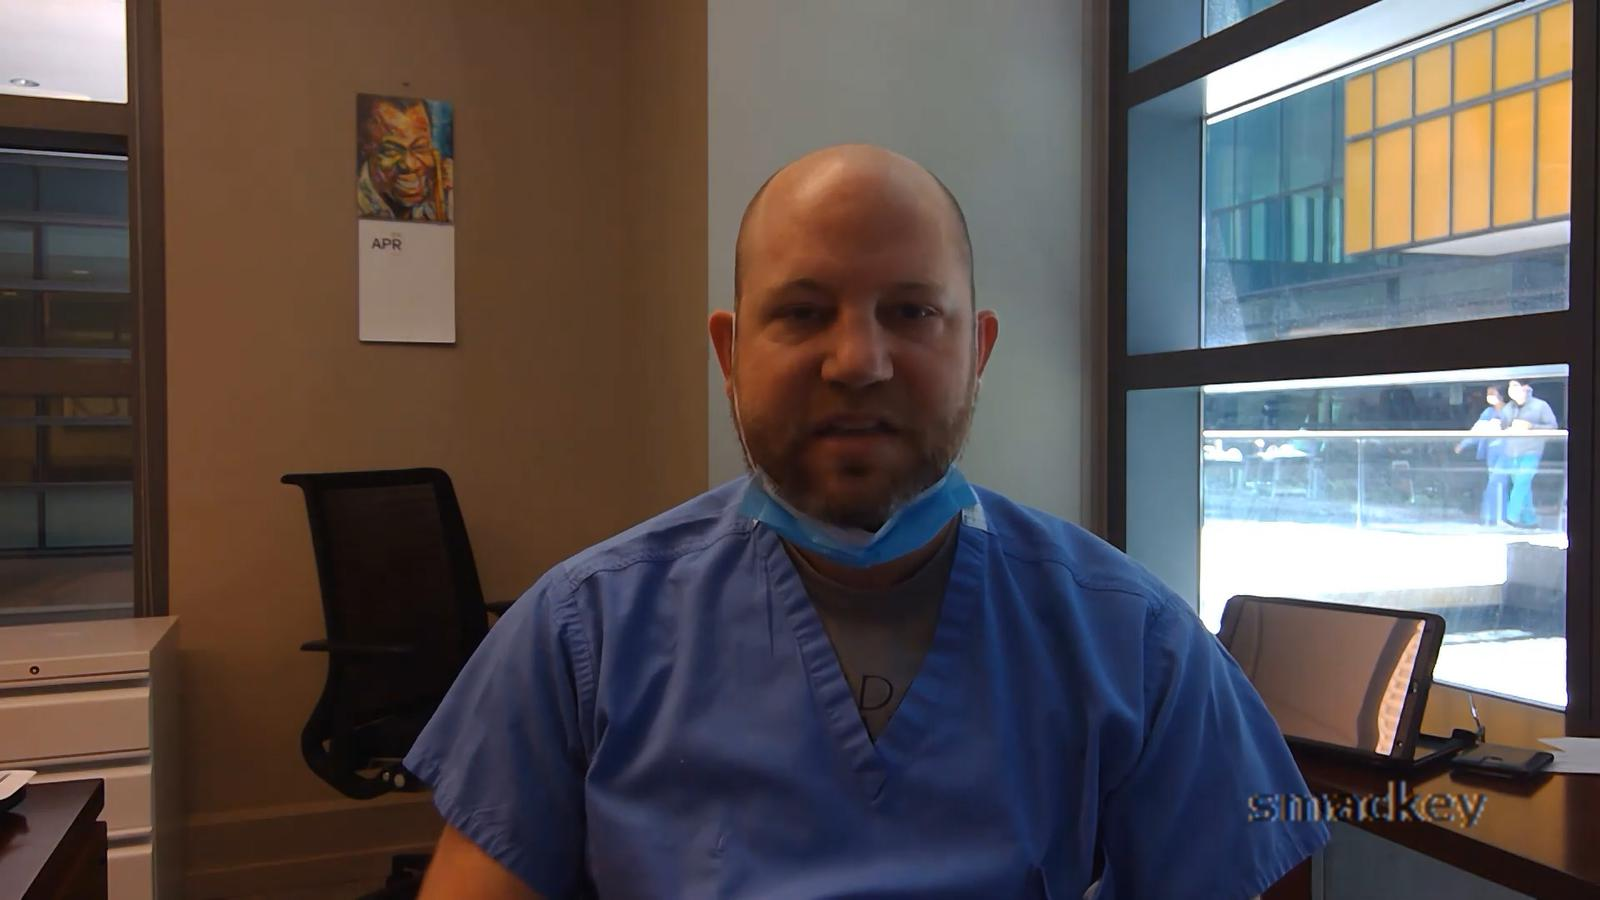with_incorrect_mask: (762, 272, 952, 530)
